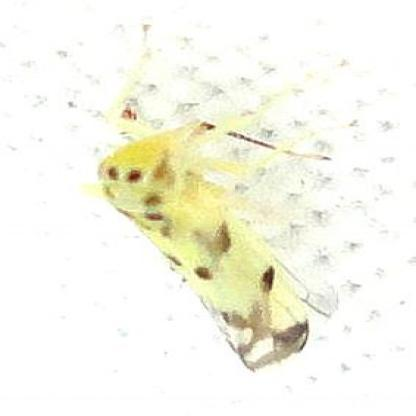green-leafhopper: (94, 119, 333, 368)
